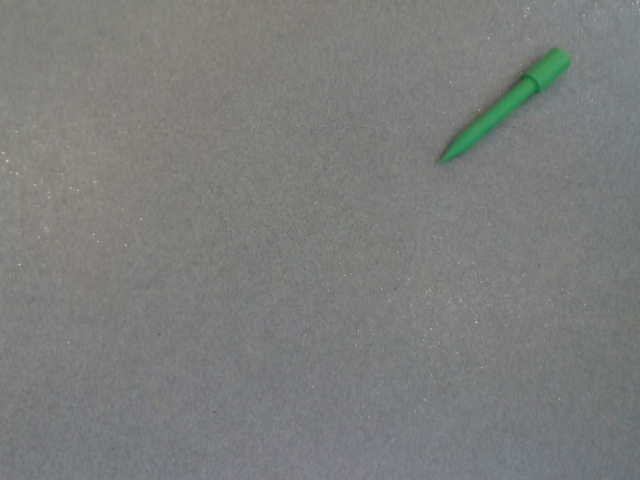Probe: (433, 39, 578, 172)
